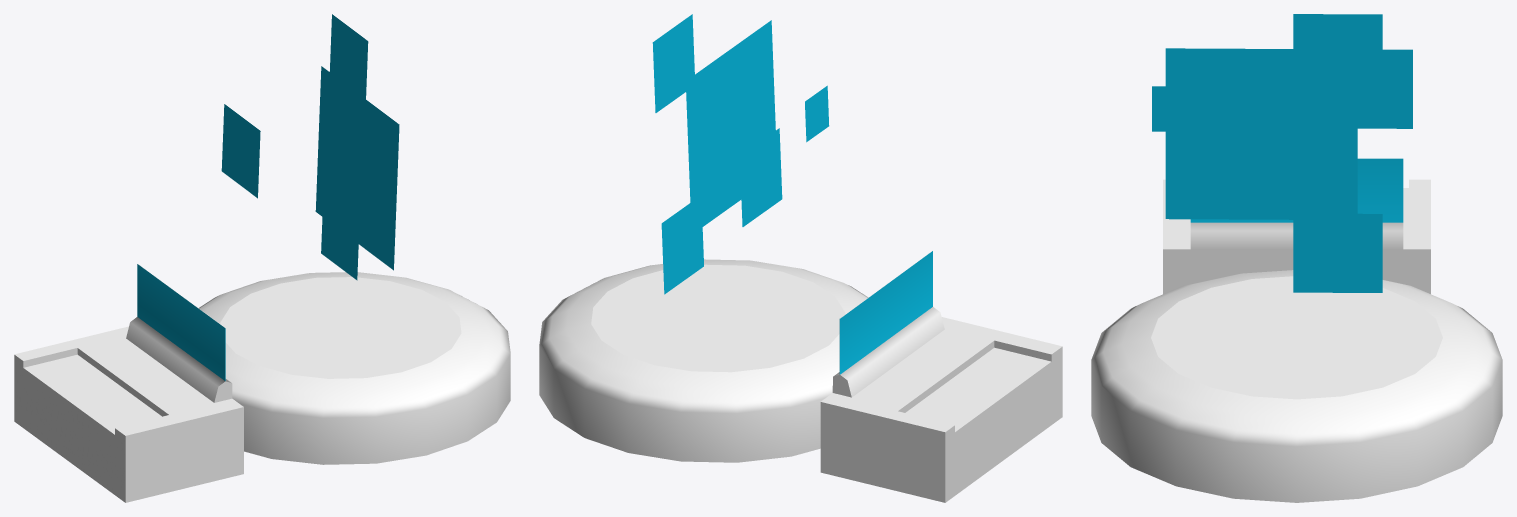
File: Computer_OBJ.obj
The picture shows the model from 3 angles, left to right: view 1: azimuth 30°, elevation 25°; view 2: azimuth 150°, elevation 25°; view 3: azimuth 270°, elevation 25°; orthographic projection. The views are drawn at different scales.
Visible parts, largest first — view 1: pCylinder1, pCube1, pPlane5, pCube2, pPlane2, pPlane3, pPlane1, pPlane4; view 2: pCylinder1, pCube1, pPlane5, pCube2, pPlane2, pPlane3, pPlane1, pPlane4; view 3: pCylinder1, pPlane5, pCube1, pPlane3, pPlane1, pCube2, pPlane2, pPlane4.
Boxes of the visible parts, x1,y1,x2,y2 form: pCylinder1: (198, 272, 510, 464); pCube1: (14, 326, 243, 502); pPlane5: (315, 66, 399, 270); pCube2: (126, 263, 232, 402); pPlane2: (221, 104, 260, 198); pPlane3: (329, 14, 368, 98); pPlane1: (321, 217, 358, 280); pPlane4: (335, 180, 357, 233); pCylinder1: (539, 259, 868, 462); pCube1: (820, 317, 1062, 502); pPlane5: (685, 20, 775, 234); pCube2: (832, 250, 944, 397); pPlane2: (739, 128, 782, 226); pPlane3: (652, 14, 694, 112); pPlane1: (661, 203, 703, 294); pPlane4: (805, 85, 829, 142); pCylinder1: (1091, 270, 1502, 502); pPlane5: (1165, 48, 1357, 219); pCube1: (1163, 179, 1430, 293); pPlane3: (1293, 14, 1382, 93); pPlane1: (1293, 213, 1382, 292); pCube2: (1190, 158, 1403, 249); pPlane2: (1357, 49, 1412, 128); pPlane4: (1152, 86, 1165, 131).
Size of the model in its own units: 6.54 by 5.21 by 4.62.
Materials: 3 (3 with a texture image).
